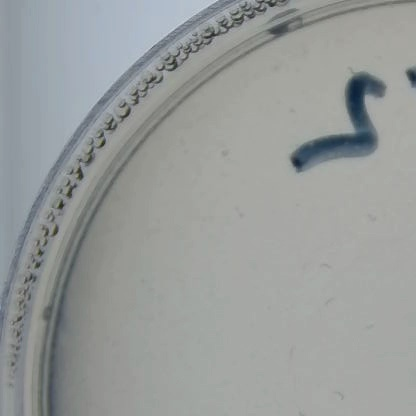worm: (329, 383, 353, 407), (312, 258, 341, 275), (319, 289, 343, 309), (231, 203, 247, 224), (288, 341, 299, 363), (365, 208, 381, 223), (340, 61, 353, 76)
